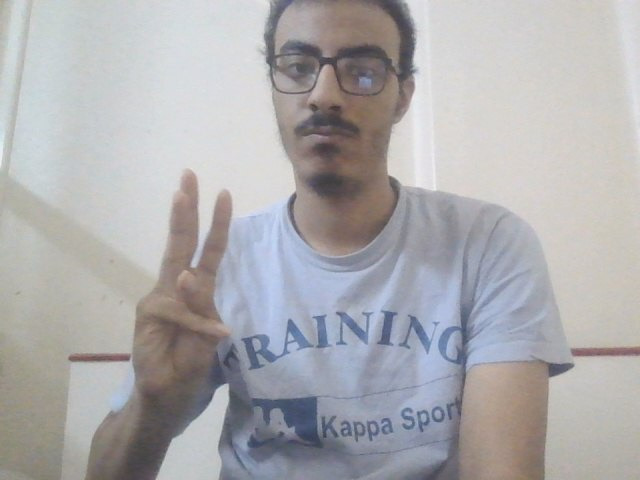Water: (116, 166, 251, 401)
